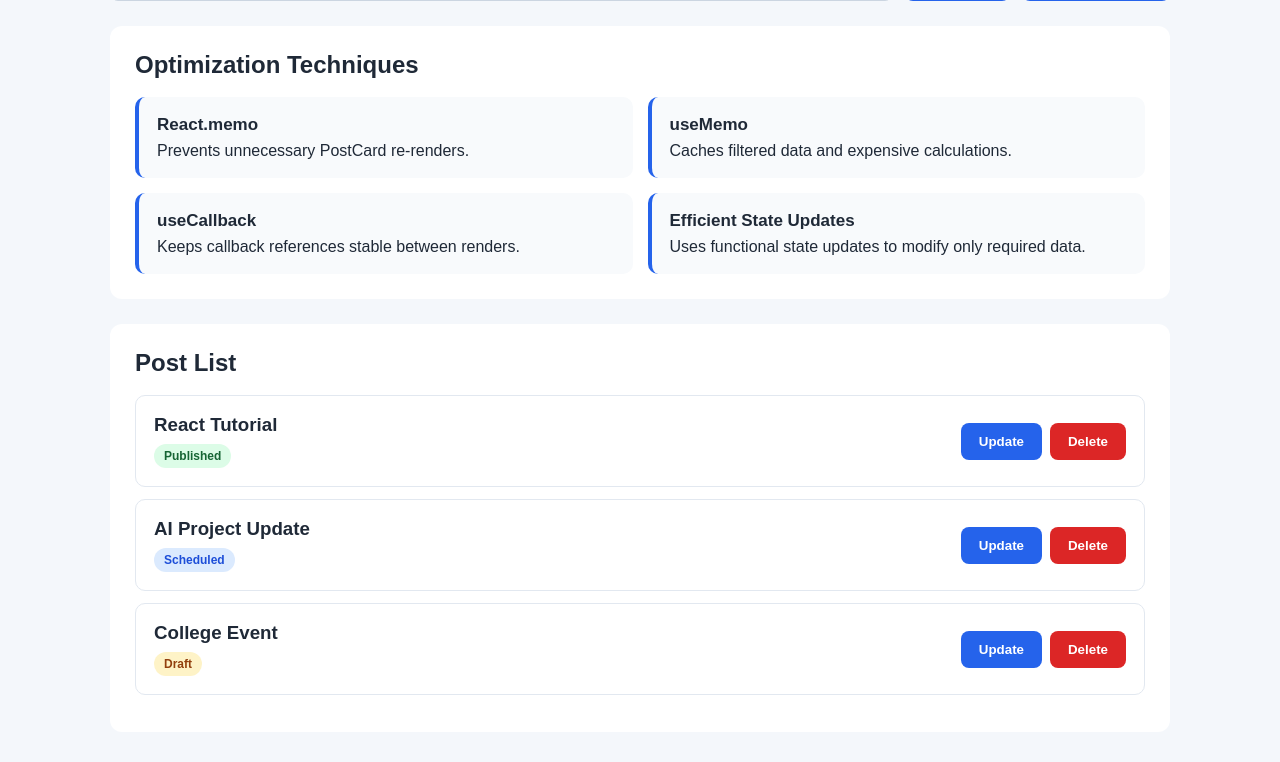
Scenario: Performance Optimized Post Manager › updates a post status
(page scrolled)
Step 1. Click the button "Update" in the row of "React Tutorial" → click(1001, 441), box [961,422,1042,460]
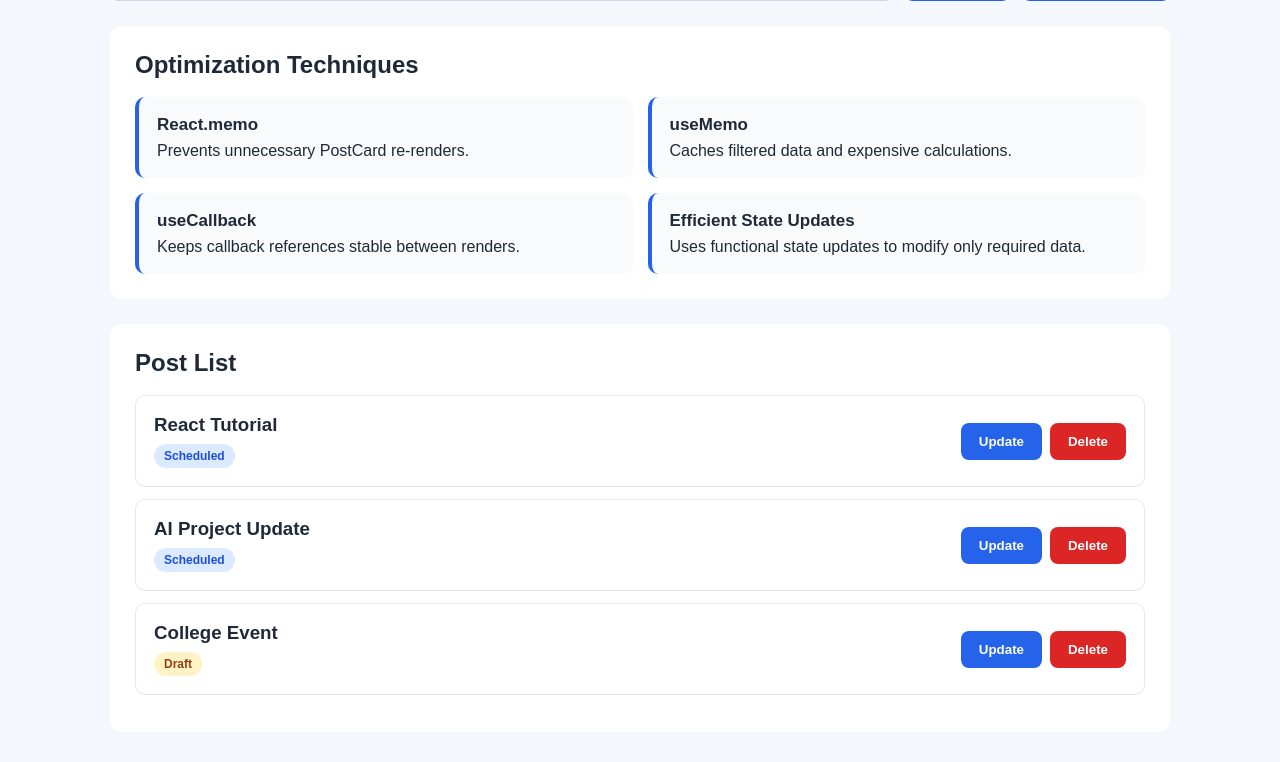
Check: the heading "React Tutorial" is shown, box [154,414,277,436]
Check: the text with class "status" below "React Tutorial" reads "Scheduled", box [164,449,225,463]
